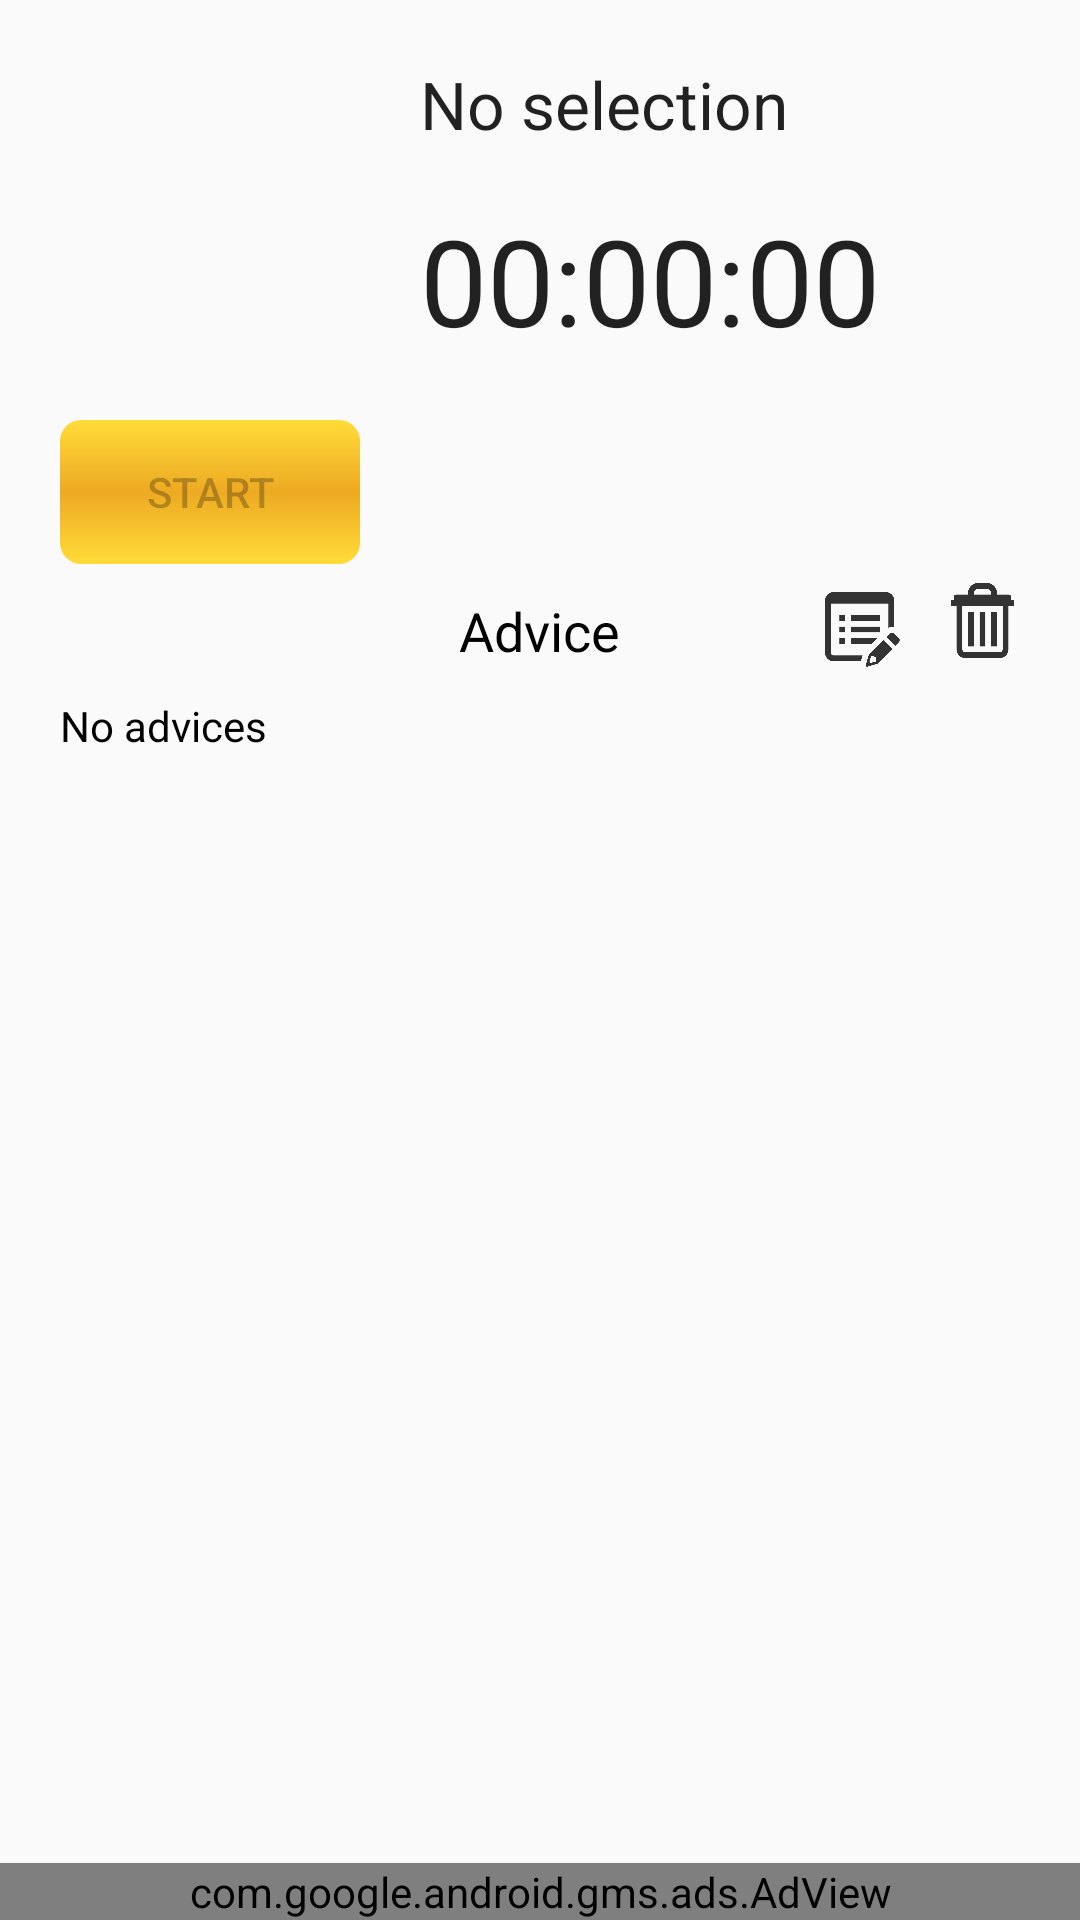

Screen size 1080px x 1920px. Icon name, then its center in pixels as (x,y):
delete: (982,620)
edit: (862,629)
